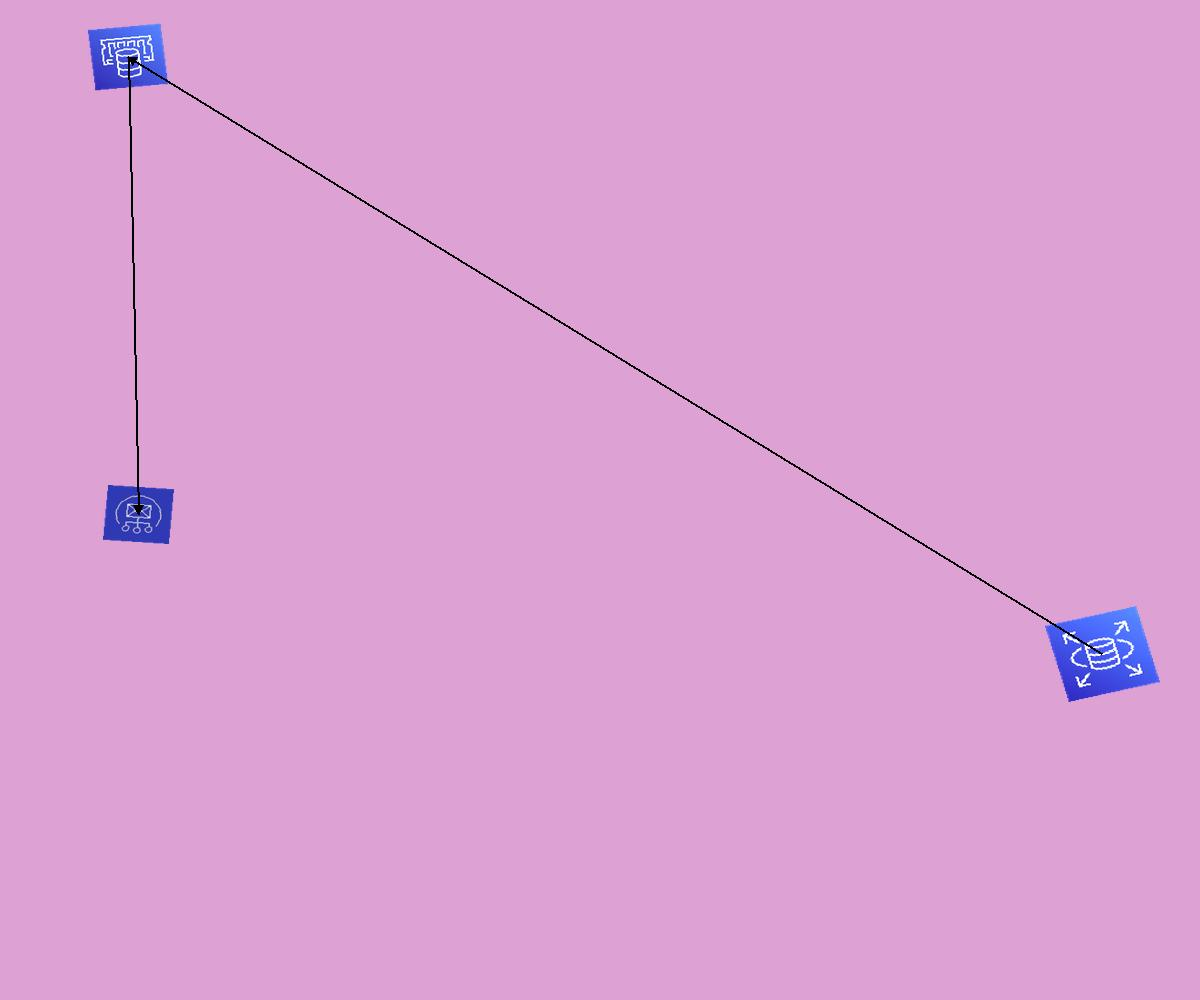AWS-ElastiCache: (87, 23, 169, 91)
AWS-RDS: (1045, 606, 1160, 702)
AWS-Simple-Email-Service: (103, 485, 174, 544)
